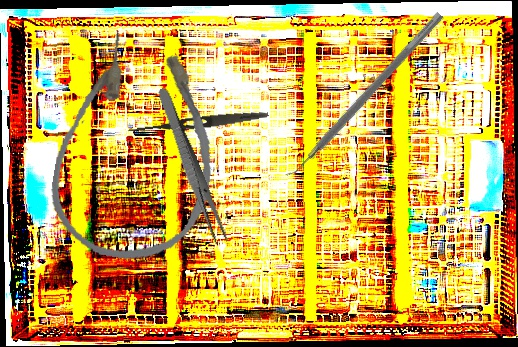Cannula: (42, 25, 231, 270)
Dressing Forceps: (152, 86, 230, 247), (126, 108, 270, 138)
Spatula Surgical: (280, 5, 445, 184)
